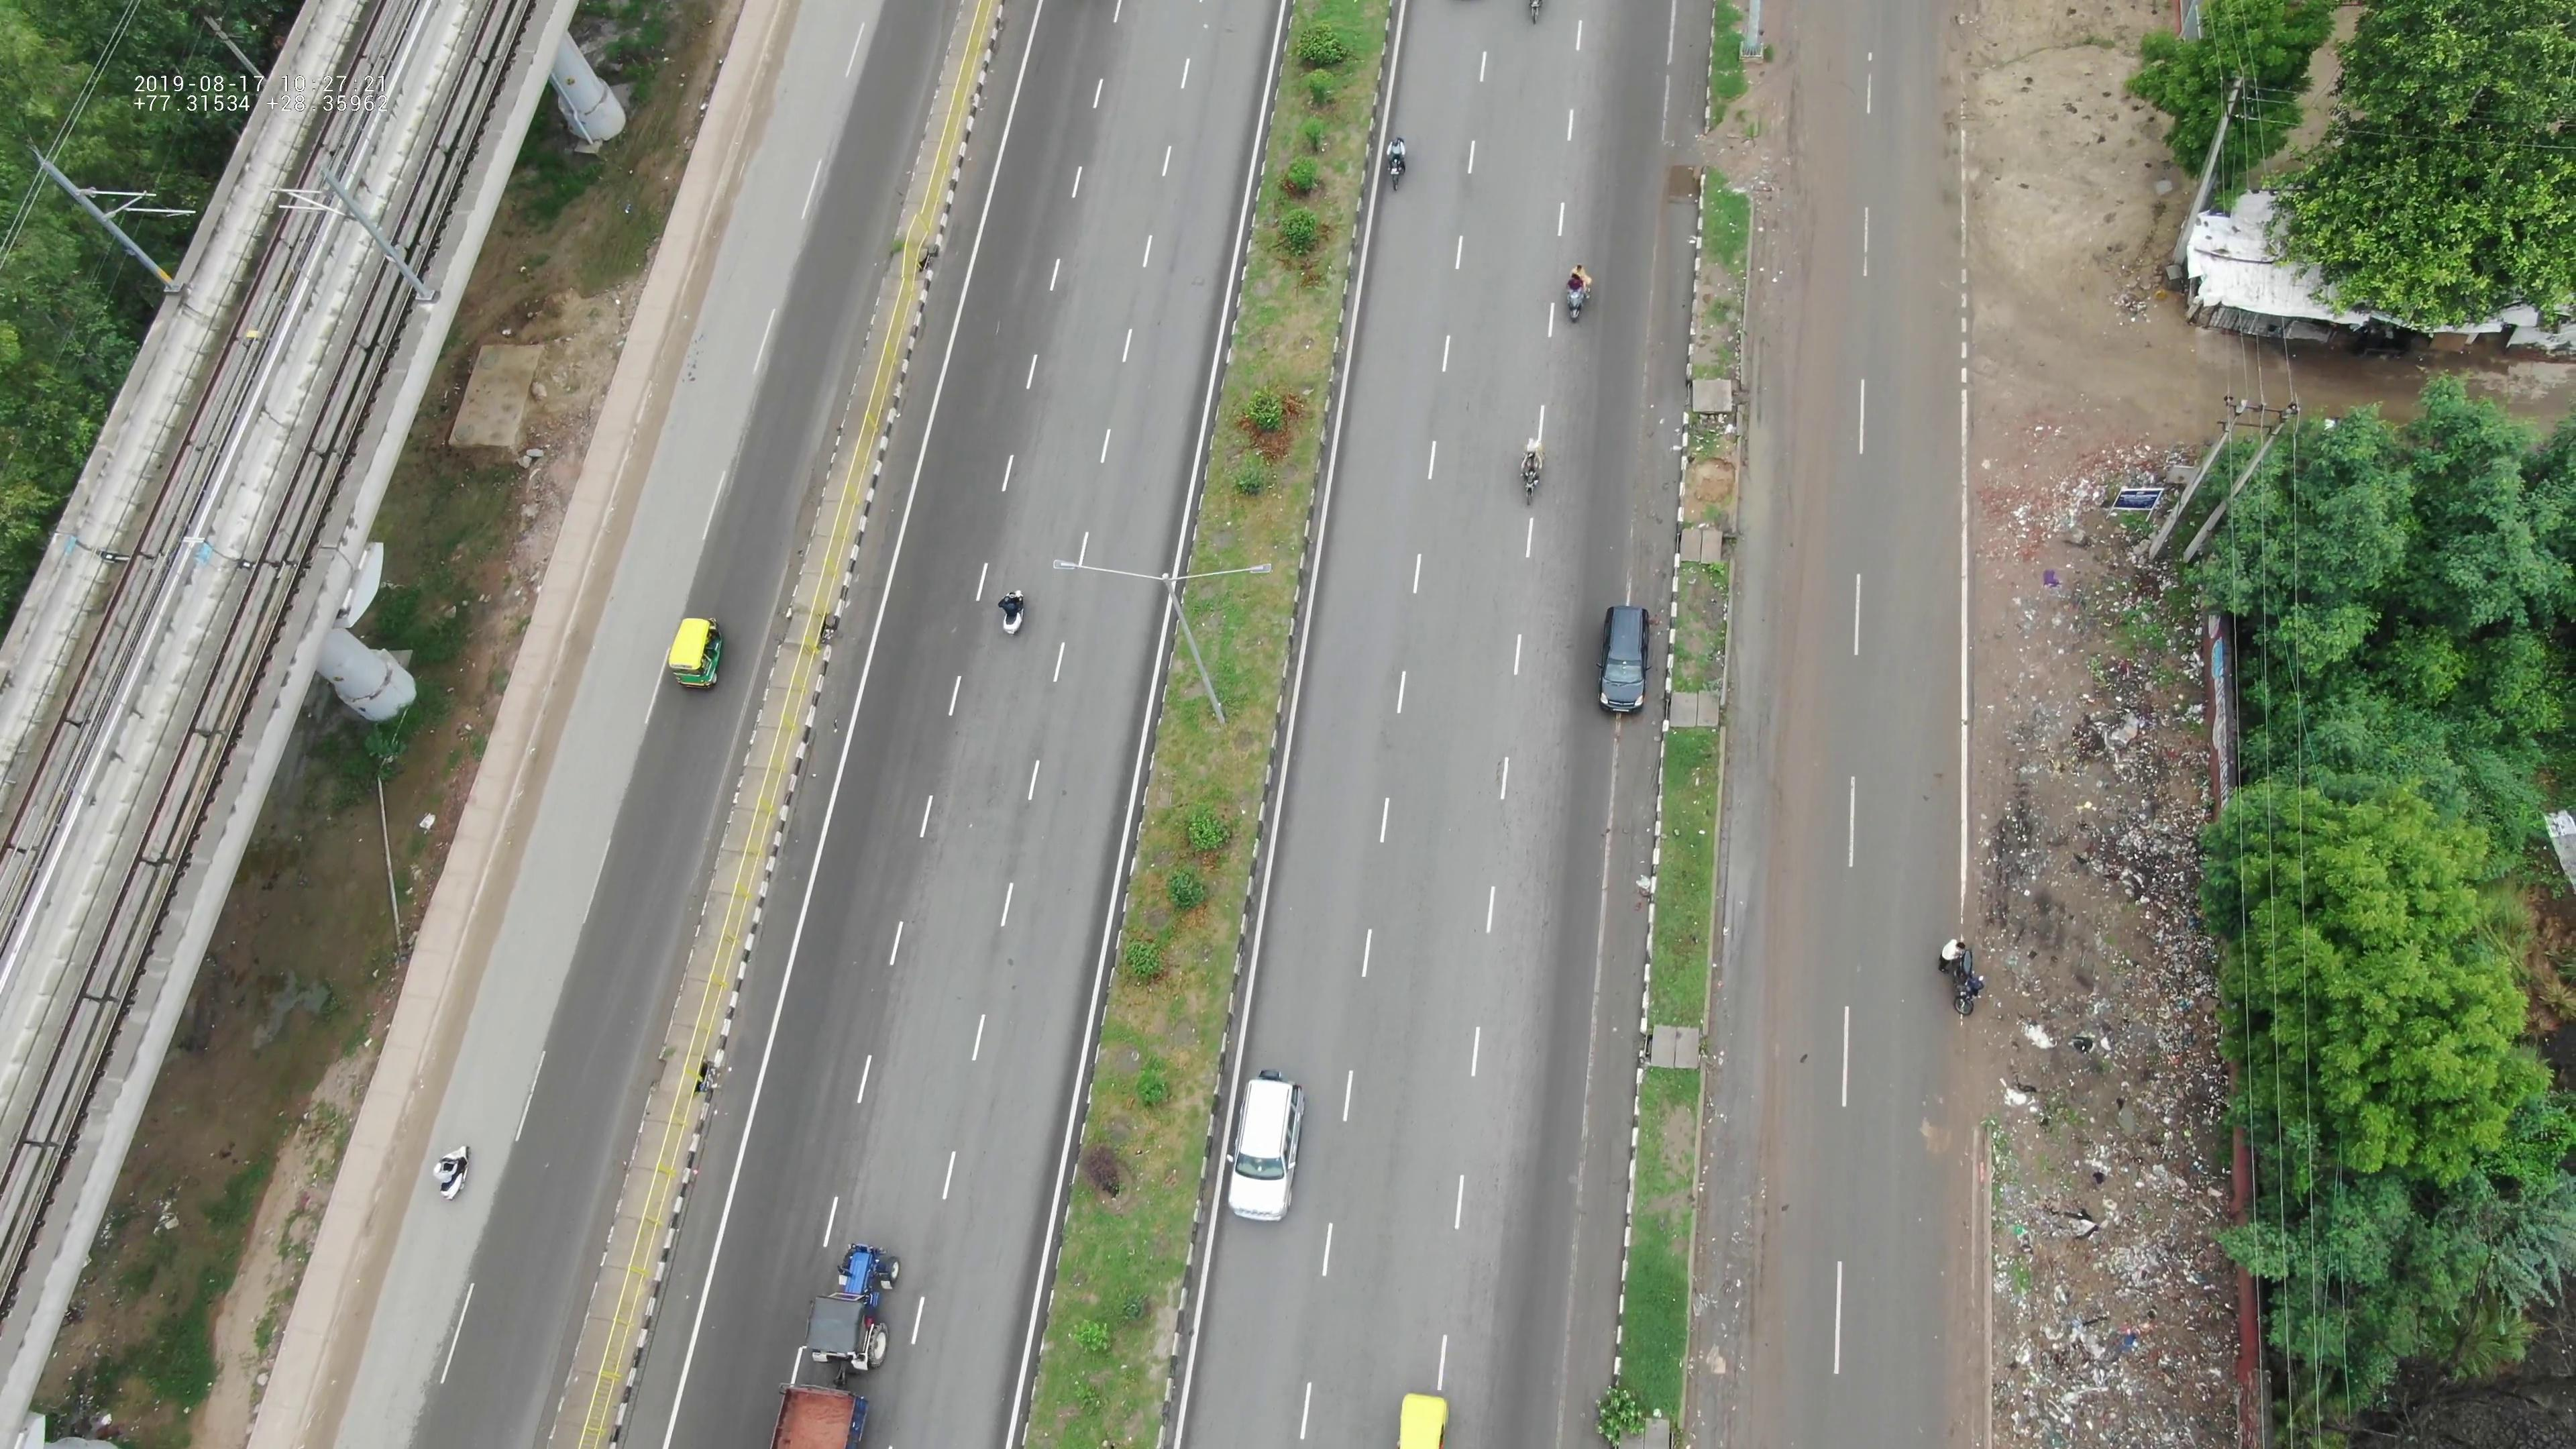Muddy_road: (1739, 53, 1829, 380)
Road_side_garbage: (2022, 501, 2217, 1017), (1997, 1044, 2226, 1428)
Waterlogging: (1709, 426, 1836, 867)
